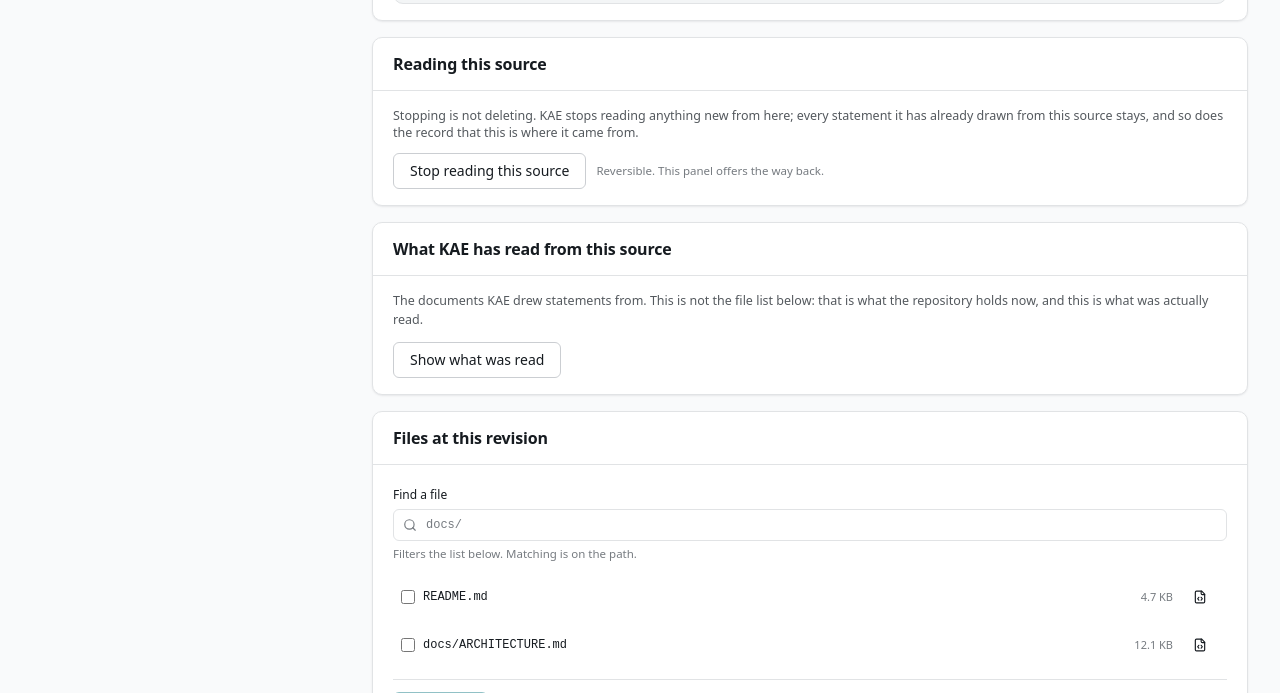
Test: a source names what it actually read › says a source nobody has read has nothing to name
(page scrolled)
Click the button "Show what was read": [477, 360] box x1=393 y1=342 x2=562 y2=378
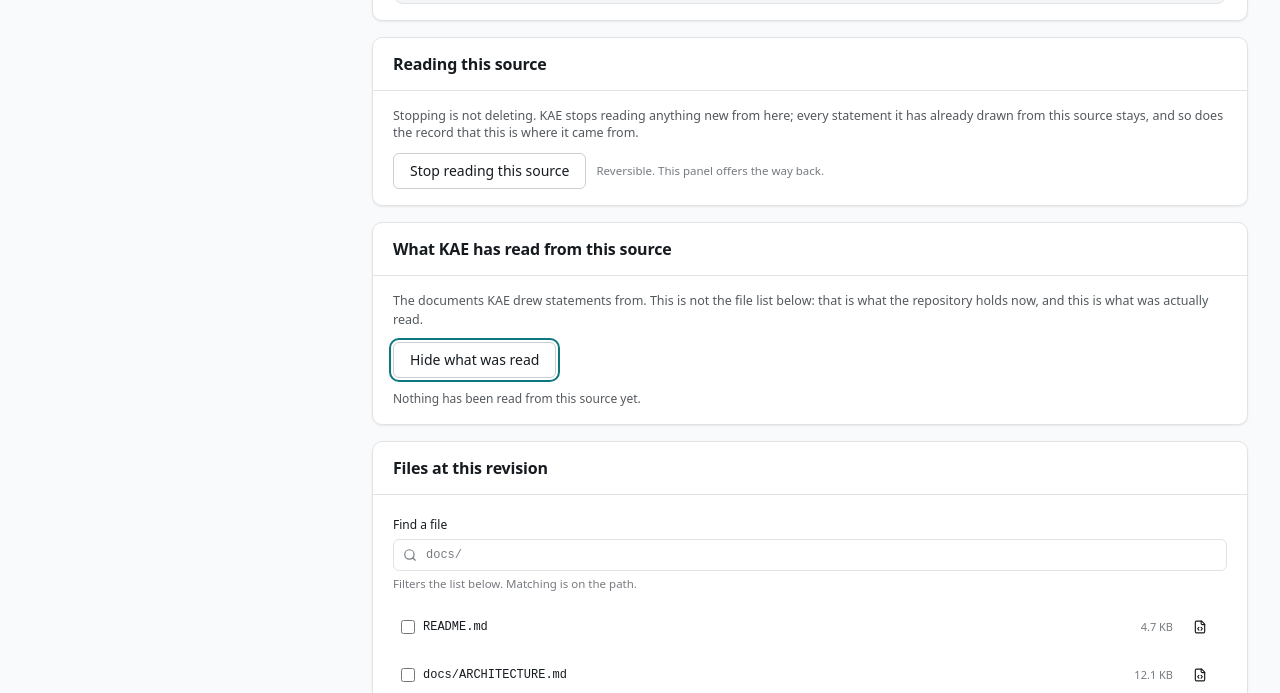
Check: the text "Nothing has been read from this source yet." is shown, box x1=393 y1=390 x2=641 y2=407
